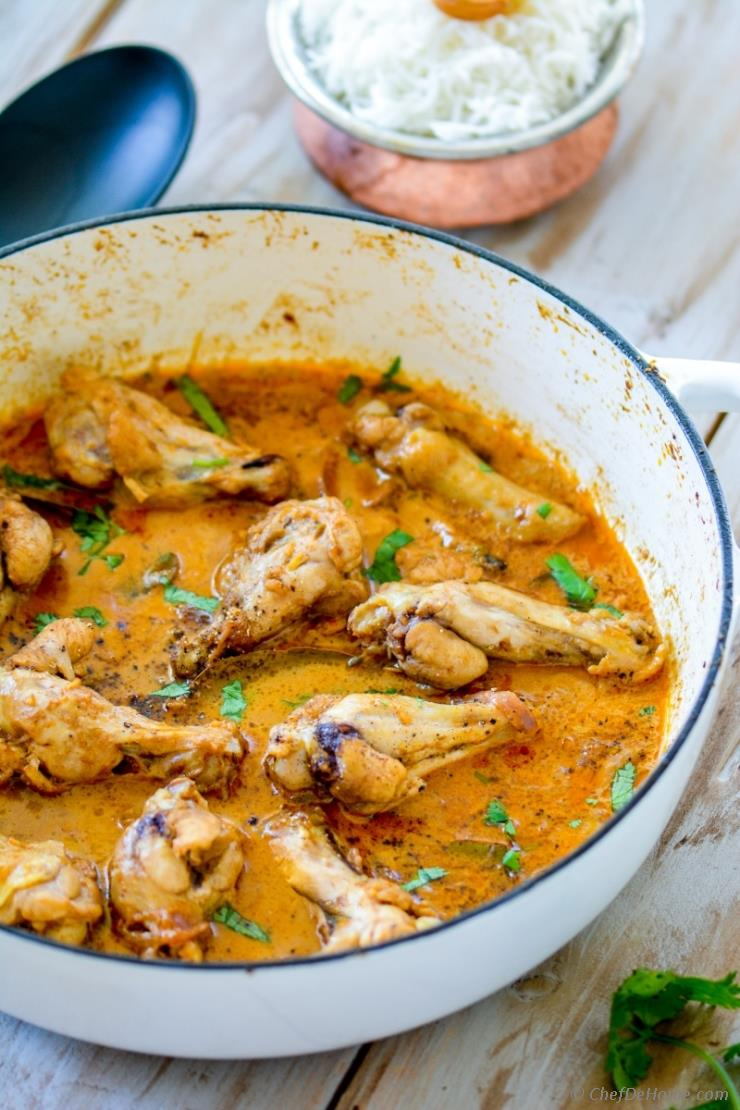chicken_curry: (29, 354, 580, 933)
